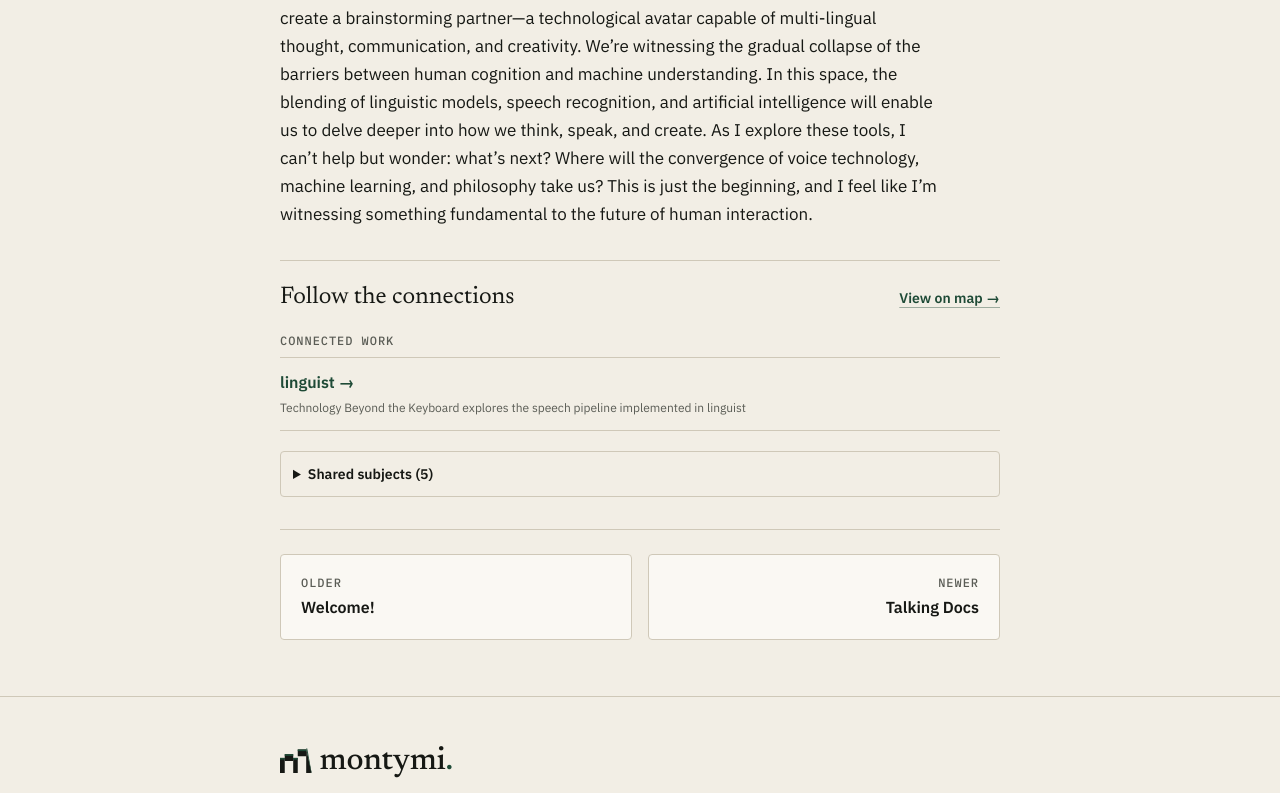
Test: project and writing pages provide the same evidence-based connections
(page scrolled)
Click the link "linguist" at (307, 382), box [280,372,746,415]
(page scrolled)
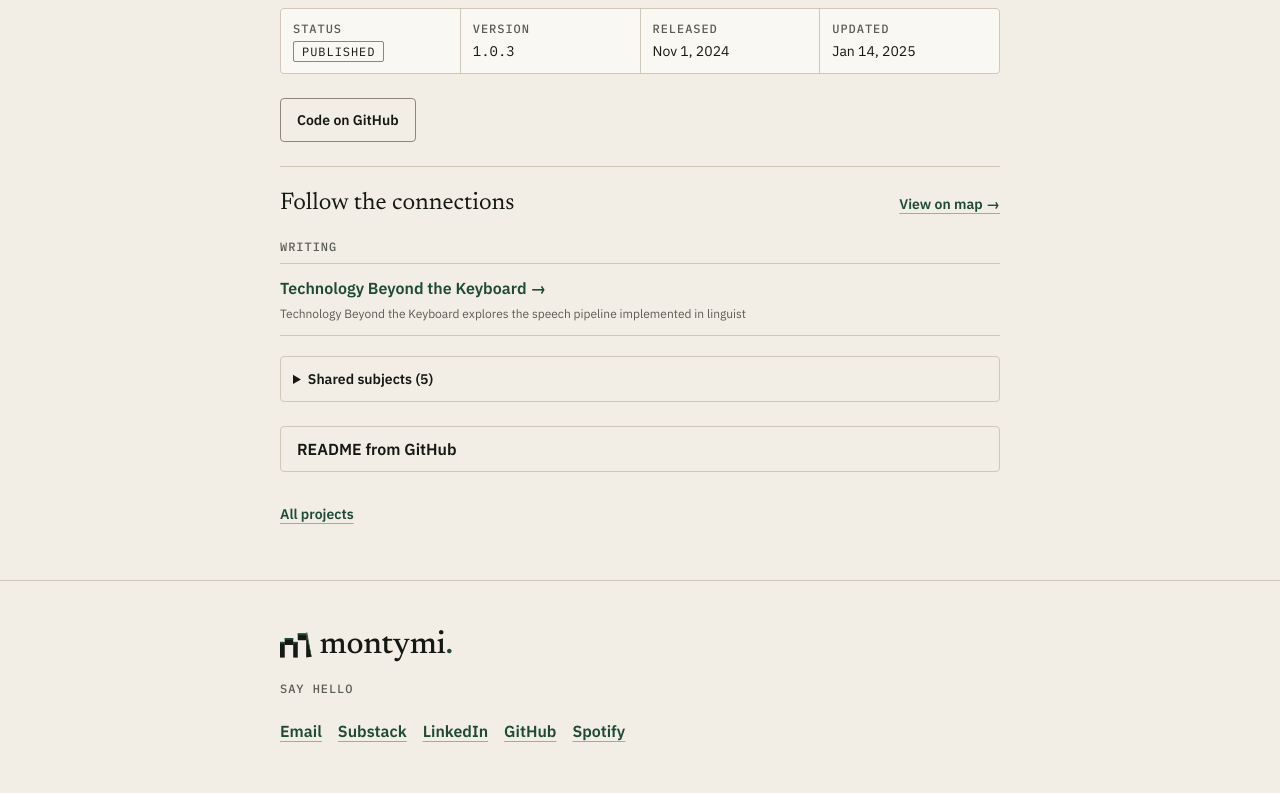
Result: the link "Technology Beyond the Keyboard" has attribute href="/writing/technology-beyond-the-keyboard" at [280,278,746,320]
